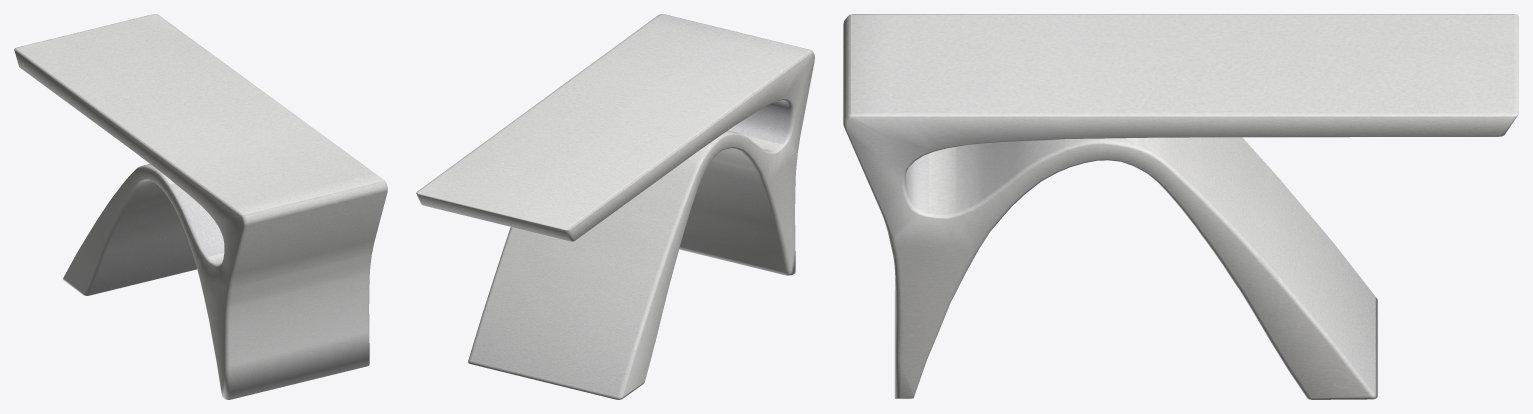
File: modern_office_desk.gltf
The picture shows the model from 3 angles, left to right: view 1: azimuth 30°, elevation 25°; view 2: azimuth 150°, elevation 25°; view 3: azimuth 270°, elevation 25°; orthographic projection. The views are drawn at different scales.
Parts seen in each view (by area): view 1: Material_001-material; view 2: Material_001-material; view 3: Material_001-material.
Part boxes in pixels (box(x1,y1,x2,y2)): Material_001-material: box(14, 14, 387, 399); Material_001-material: box(416, 14, 814, 399); Material_001-material: box(843, 14, 1518, 399).
Bounding box in the file's own units: 0.6574 × 0.8534 × 1.83.
Materials: 1 (1 with a texture image).
